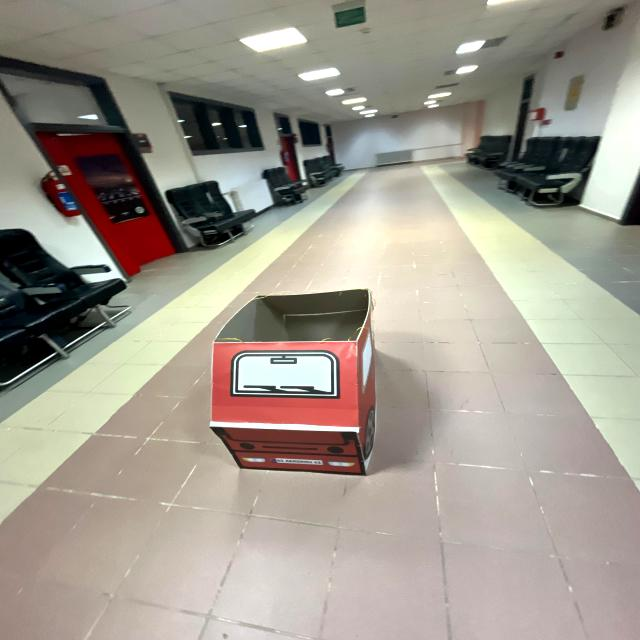red_car: (196, 282, 412, 480)
